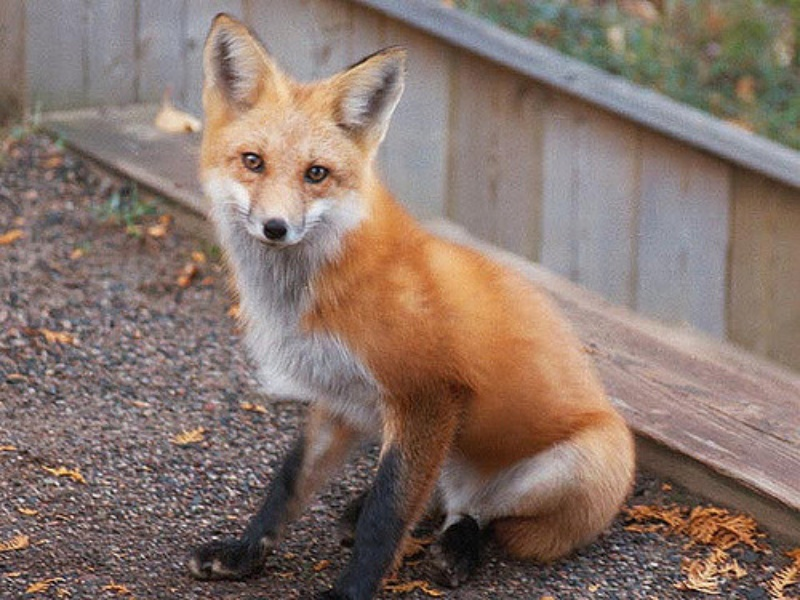fox: (175, 6, 638, 600)
